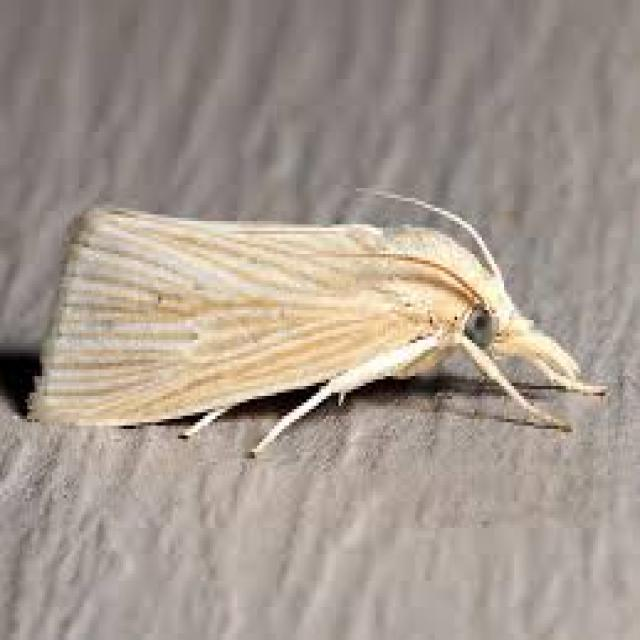yellow-stem-borer: (30, 152, 617, 521)
